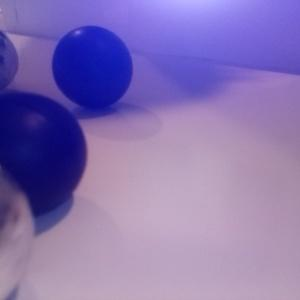alive_ball: (1, 172, 36, 300), (1, 30, 20, 91)
dead_ball: (1, 89, 86, 219), (50, 25, 134, 109)
